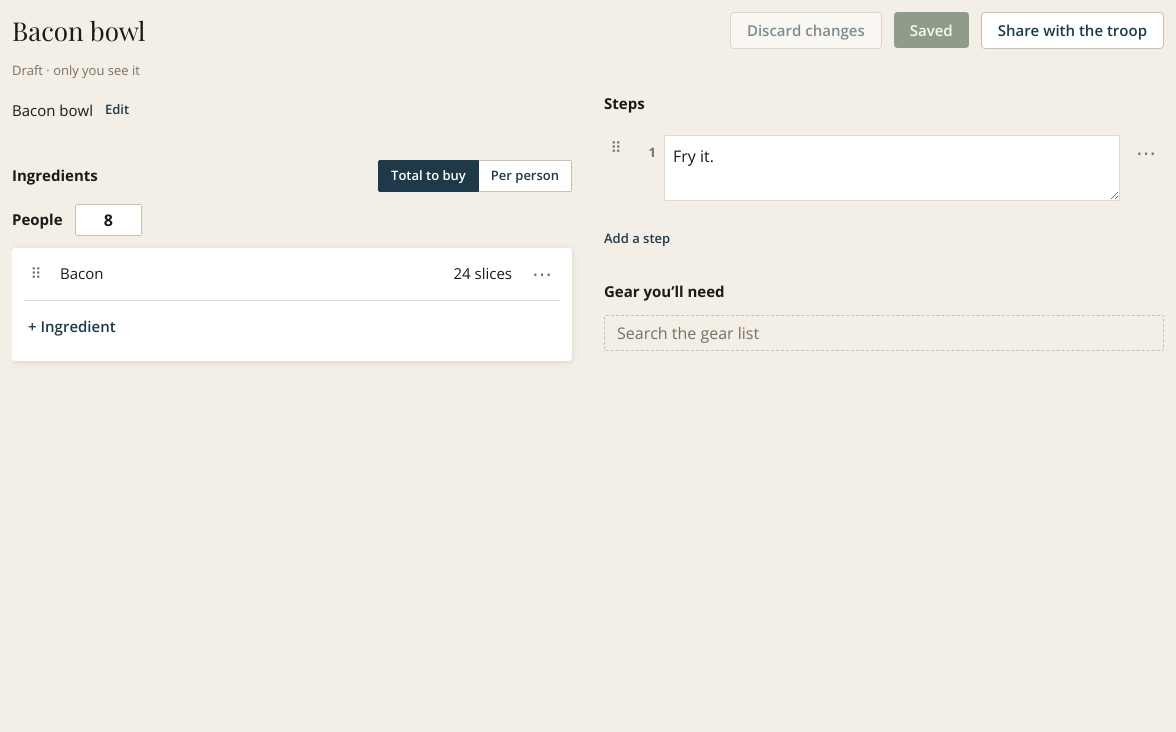
Test: RecipeEditor sharing › Scout_LosesTheProblemLine_WhenTheRecipeBecomesWhole
Click the button "Share with the troop" at (1072, 30), box left=981, top=12, right=1164, bottom=48
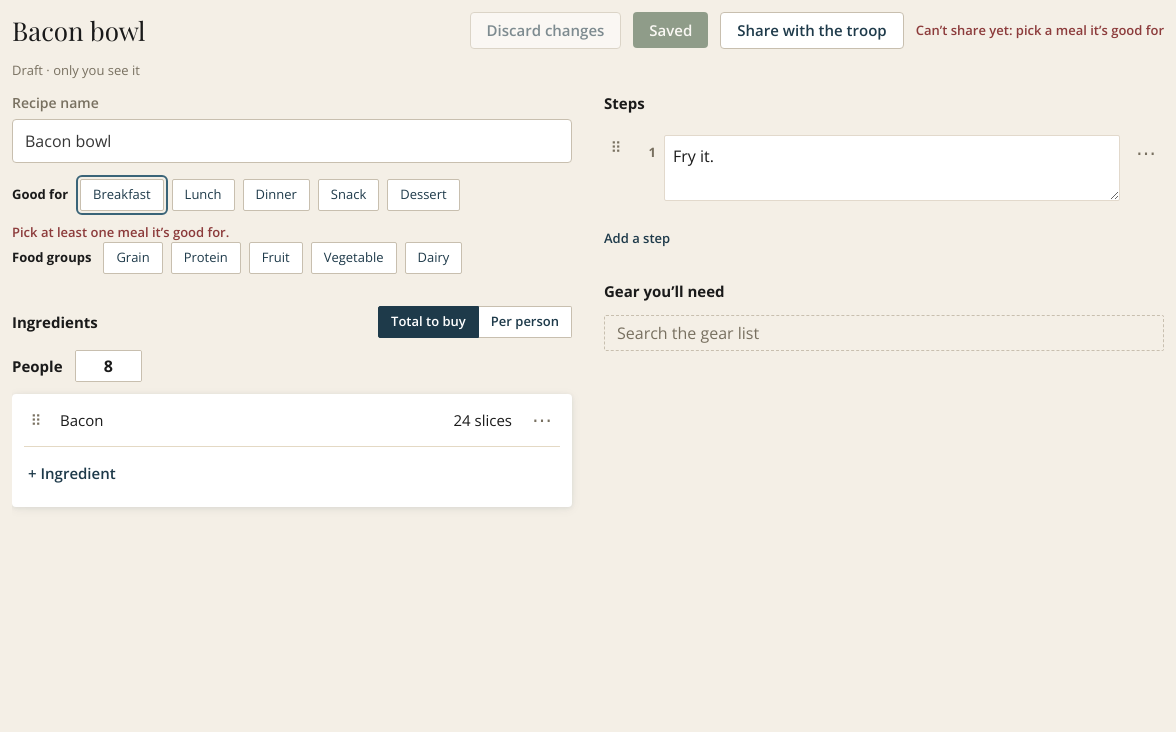
Now the message "Can’t share yet: pick a meal it’s good for" is shown, box left=916, top=20, right=1164, bottom=40
Click the button "Breakfast" at (122, 195), box left=80, top=179, right=164, bottom=211
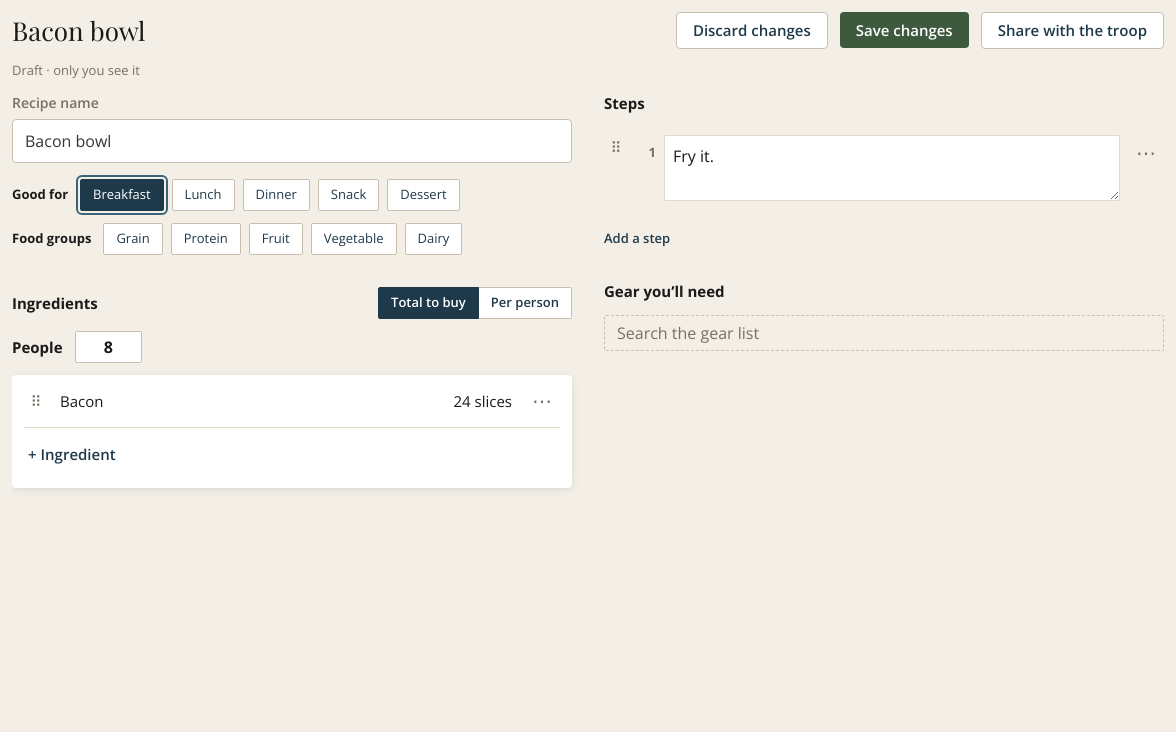
Now the message "Can’t share yet: pick a meal it’s good for" is gone
Now the text "Pick at least one meal it’s good for." is gone
